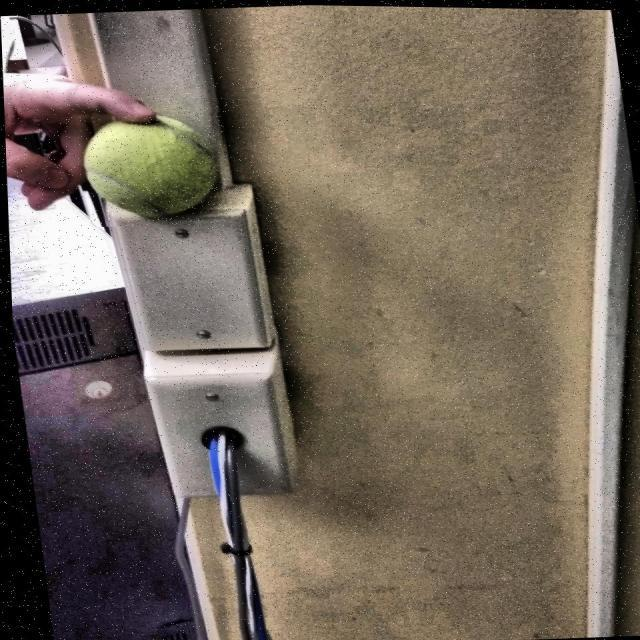tennis-ball: (76, 109, 236, 229)
